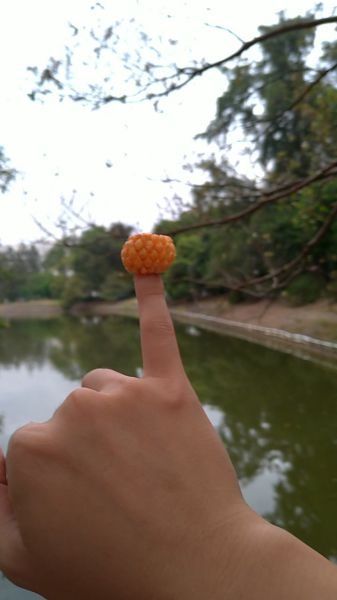eggs: (120, 232, 178, 275)
